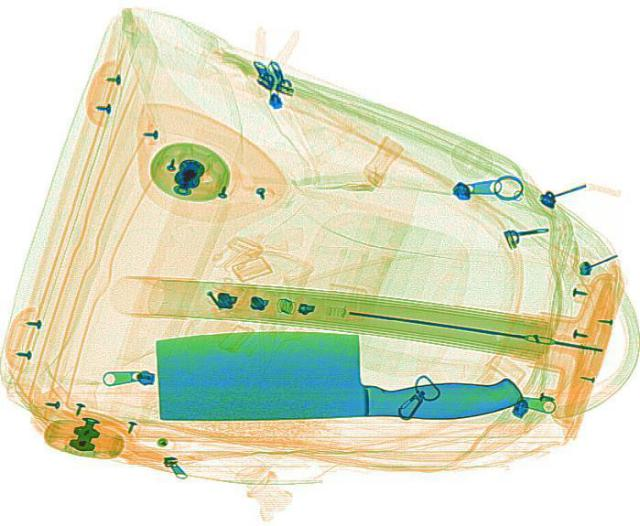Knife: (150, 329, 522, 418)
